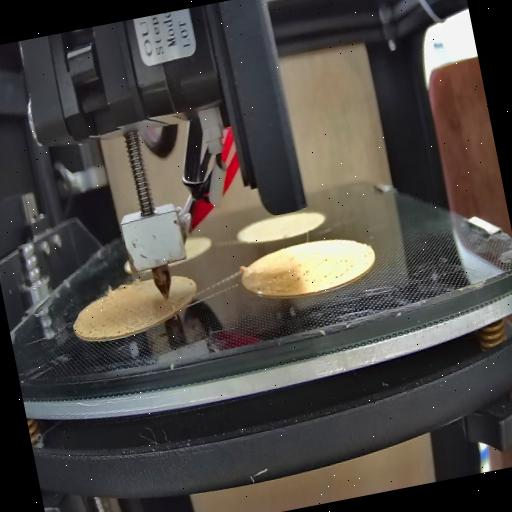under_extrusion: (253, 254, 363, 302), (80, 303, 139, 348), (170, 274, 198, 304)
